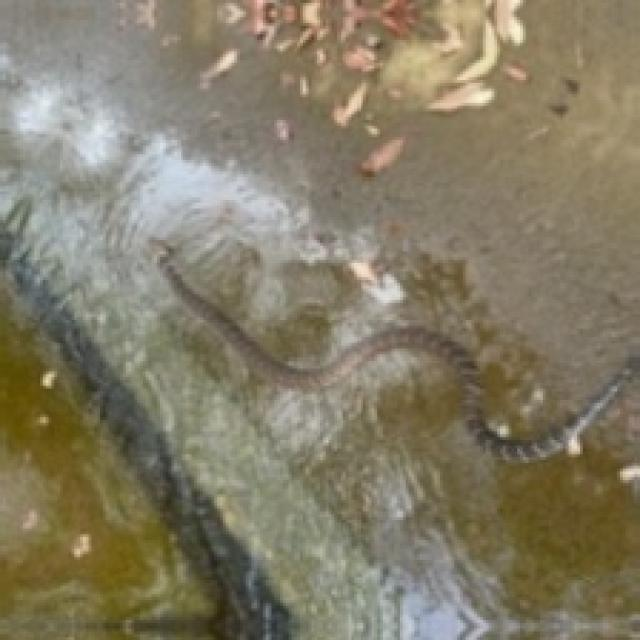king cobra: (151, 240, 637, 460)
